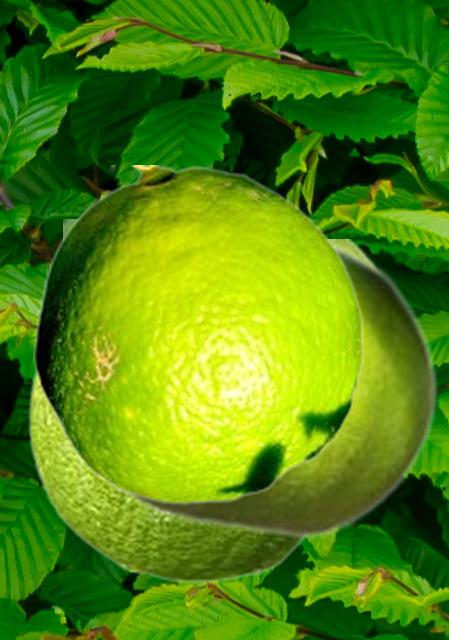dalandan: (27, 239, 381, 582), (63, 219, 438, 539), (33, 165, 363, 504)
